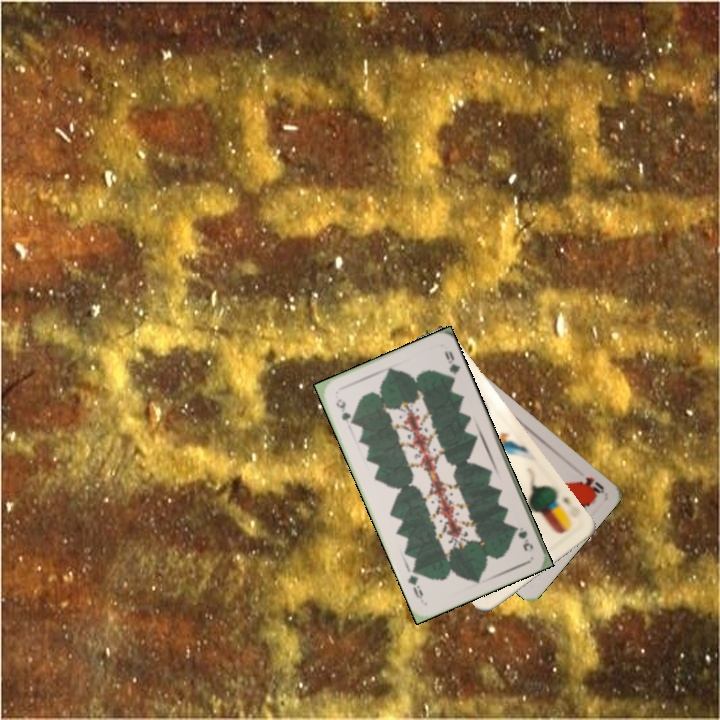EO: (550, 492, 583, 520)
G9: (510, 522, 536, 554), (332, 394, 356, 428)
HO: (576, 473, 607, 498)
